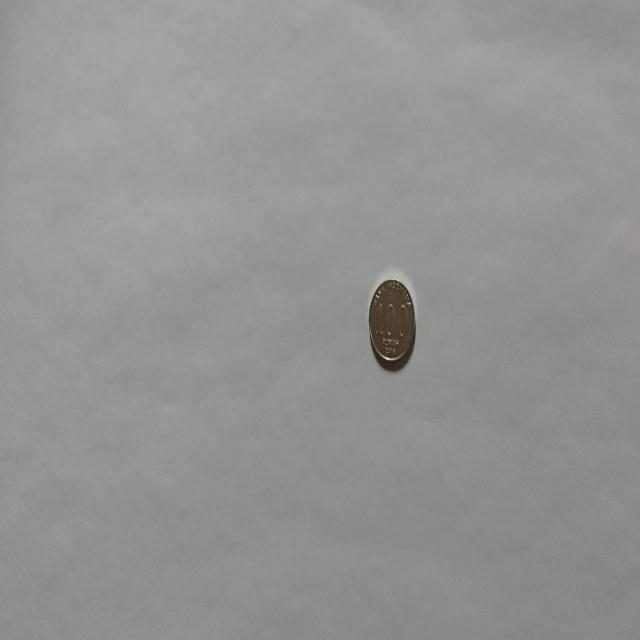seratus rupiah: (368, 276, 416, 369)
